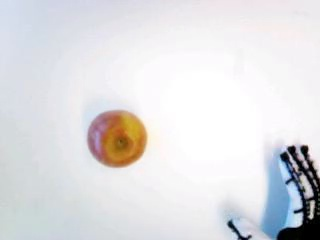apple: (86, 111, 147, 165)
hand: (225, 143, 320, 240)
